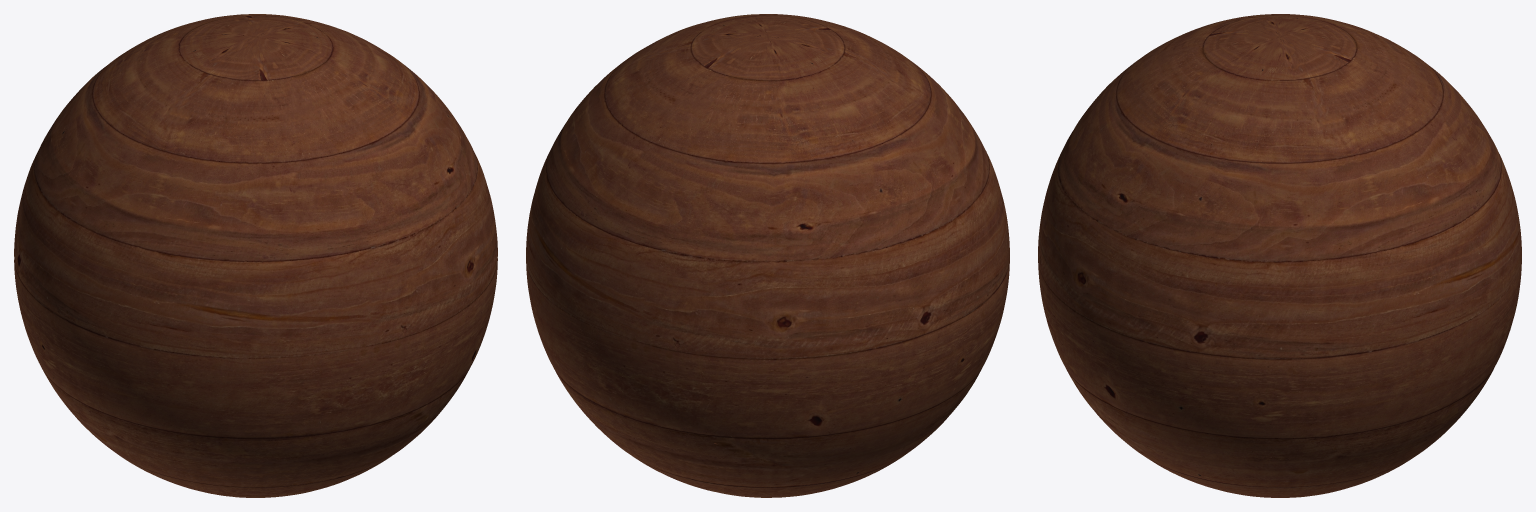
The model's file is stained_pine_1k.gltf.
3 renders of one model, left to right at view 1: azimuth 30°, elevation 25°; view 2: azimuth 150°, elevation 25°; view 3: azimuth 270°, elevation 25°, orthographic.
Parts seen in each view (by area): view 1: sphere_gltf; view 2: sphere_gltf; view 3: sphere_gltf.
Boxes of the visible parts, x1,y1,x2,y2 form: sphere_gltf: (14, 14, 497, 497); sphere_gltf: (526, 14, 1009, 497); sphere_gltf: (1038, 14, 1521, 497).
Size of the model in its own units: 0.9003 by 0.9004 by 0.9003.
1 material, 1 textured.
